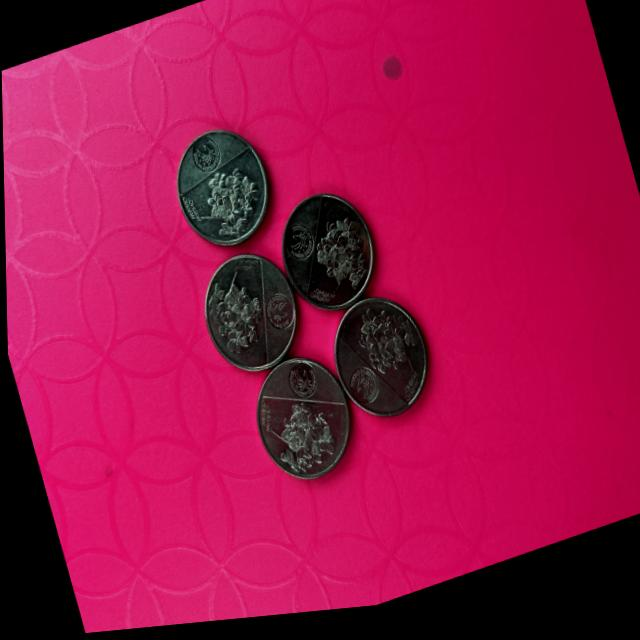1_New_Back: (307, 211, 374, 307), (198, 165, 270, 251), (267, 405, 338, 490), (204, 278, 266, 364), (357, 311, 421, 392)
